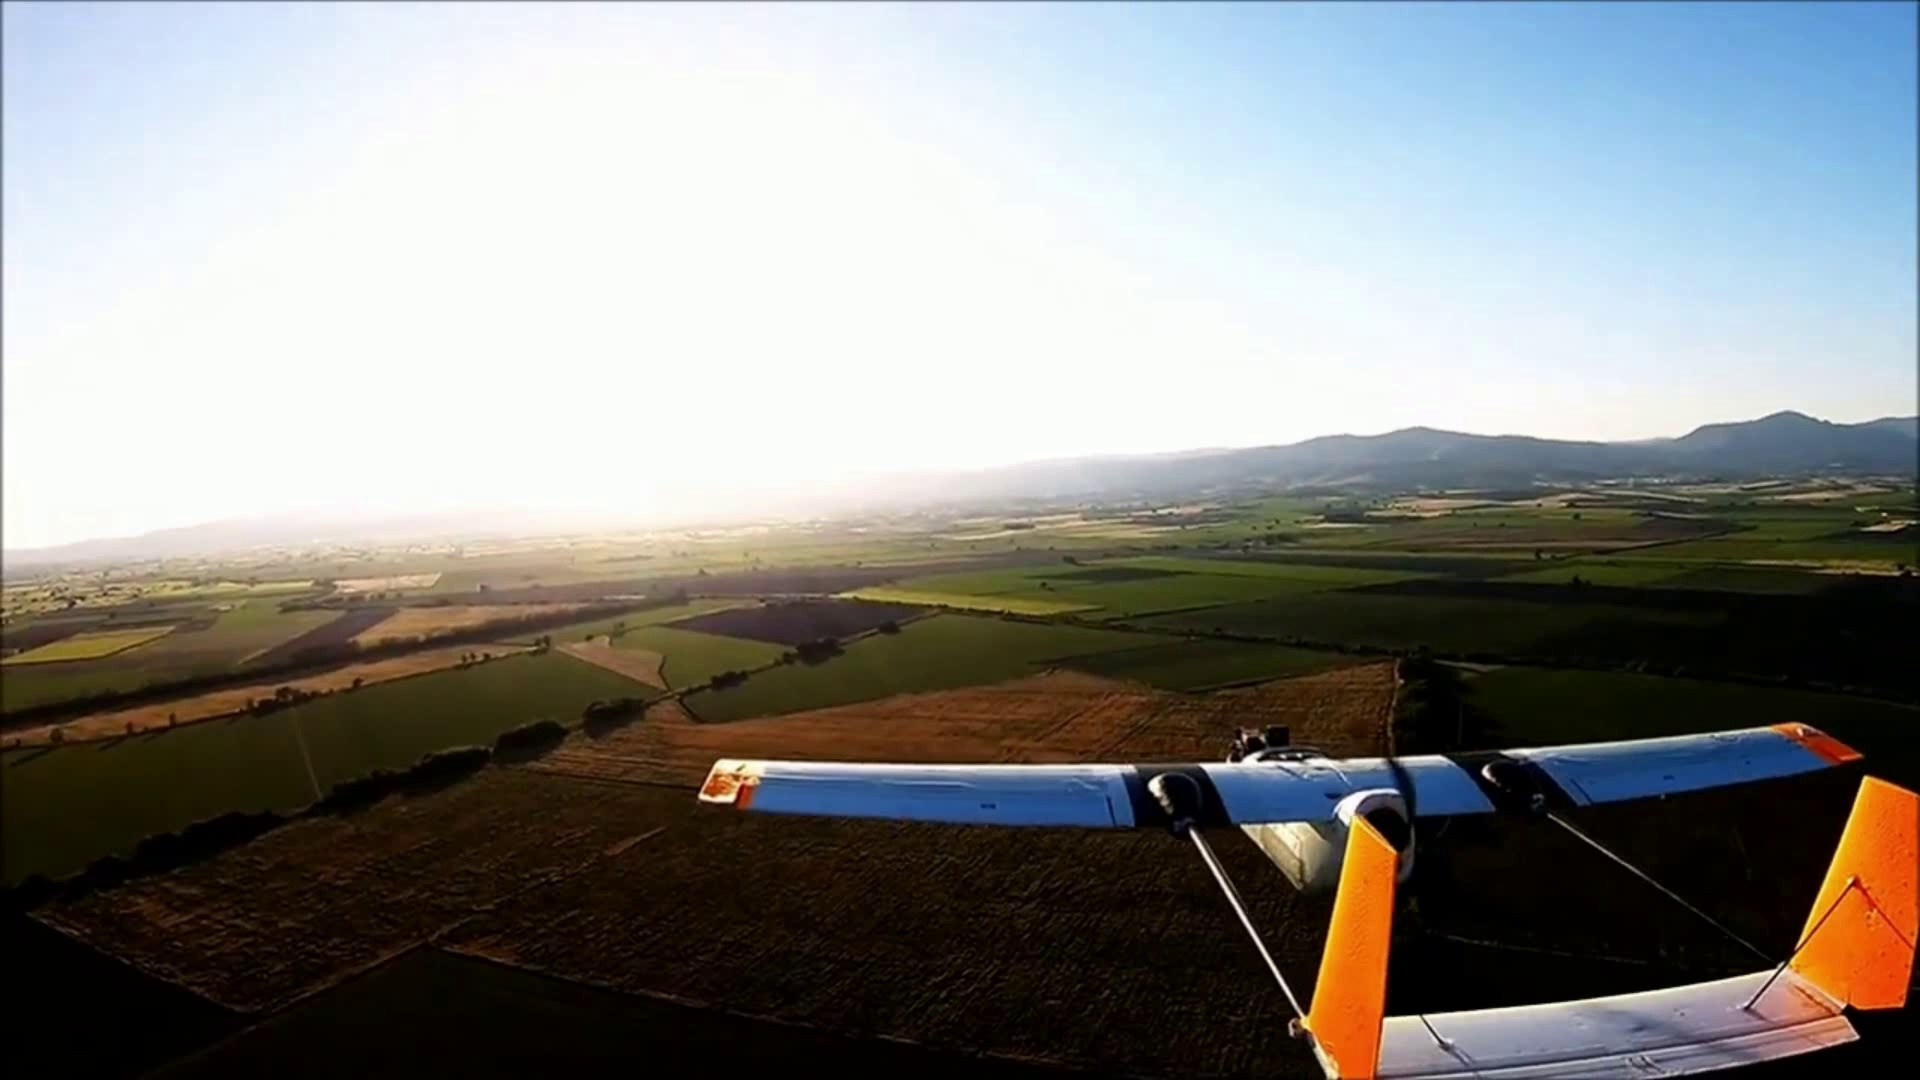airplane: (696, 721, 1915, 1065)
